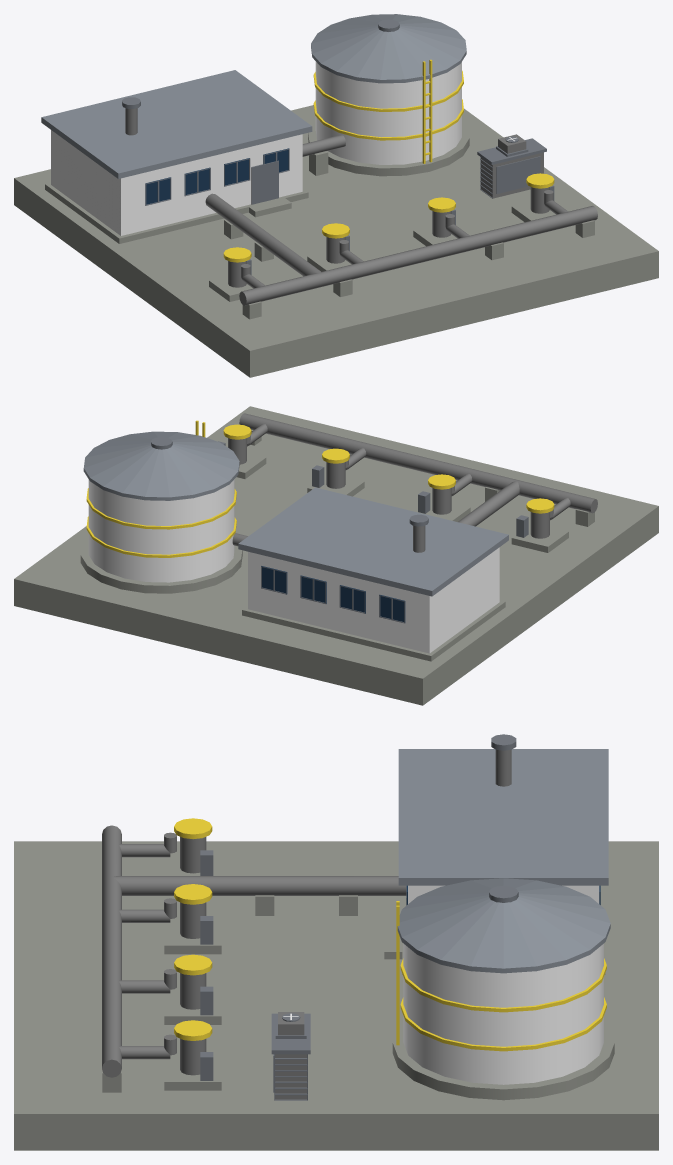
Rendered from top-prebuilt_close.fbx.
3 renders of one model, top to bottom at view 1: azimuth 30°, elevation 25°; view 2: azimuth 150°, elevation 25°; view 3: azimuth 270°, elevation 25°, orthographic. The views are drawn at different scales.
Visible parts, largest first — view 1: a1049_Prebuilt.001; view 2: a1049_Prebuilt.001; view 3: a1049_Prebuilt.001.
Part boxes in pixels (x1=…): a1049_Prebuilt.001: x1=14, y1=14, x2=658, y2=377; a1049_Prebuilt.001: x1=14, y1=406, x2=658, y2=705; a1049_Prebuilt.001: x1=14, y1=734, x2=658, y2=1150.
Size of the model in its own units: 27 by 9.15 by 27.
